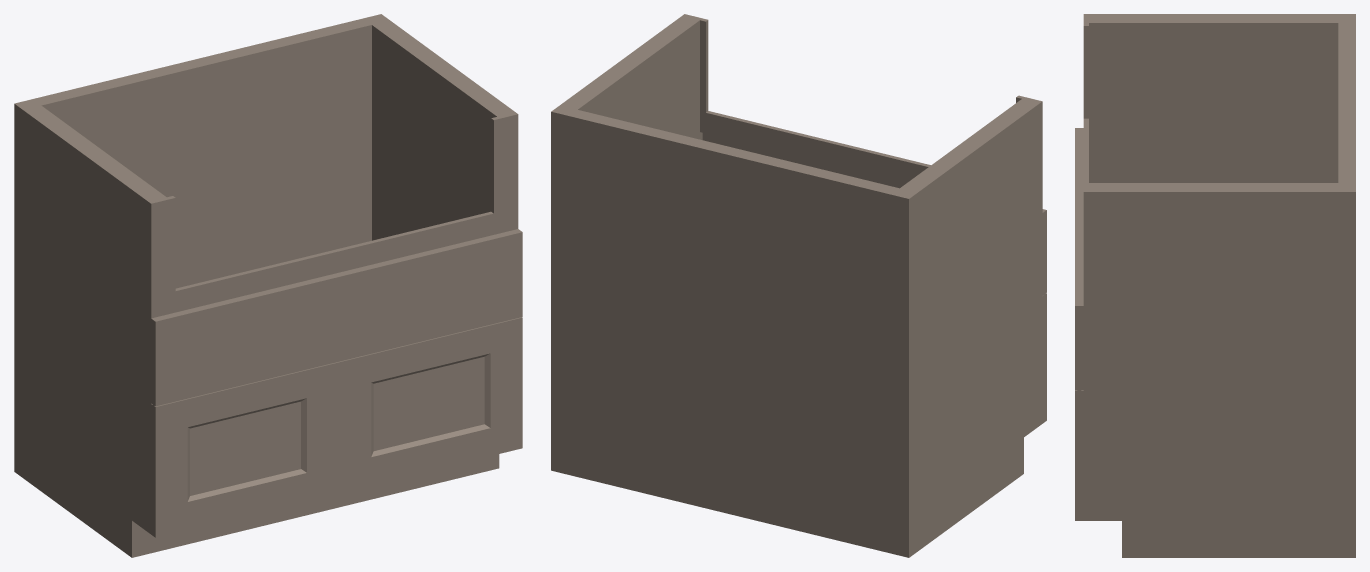
The model's file is Base-Cabinet-Farm-Sink-24-Deep_std_001_W36in.glb.
3 renders of one model, left to right at view 1: azimuth 30°, elevation 25°; view 2: azimuth 150°, elevation 25°; view 3: azimuth 270°, elevation 25°, orthographic. The views are drawn at different scales.
Parts seen in each view (by area): view 1: Base-Cabinet-Farm-Sink-24-Deep.std.001_W36in; view 2: Base-Cabinet-Farm-Sink-24-Deep.std.001_W36in; view 3: Base-Cabinet-Farm-Sink-24-Deep.std.001_W36in.
Boxes of the visible parts, x1,y1,x2,y2 form: Base-Cabinet-Farm-Sink-24-Deep.std.001_W36in: (14,14,522,557); Base-Cabinet-Farm-Sink-24-Deep.std.001_W36in: (551,14,1046,557); Base-Cabinet-Farm-Sink-24-Deep.std.001_W36in: (1075,14,1355,557).
Size of the model in its own units: 0.9144 by 0.8763 by 0.6096.
